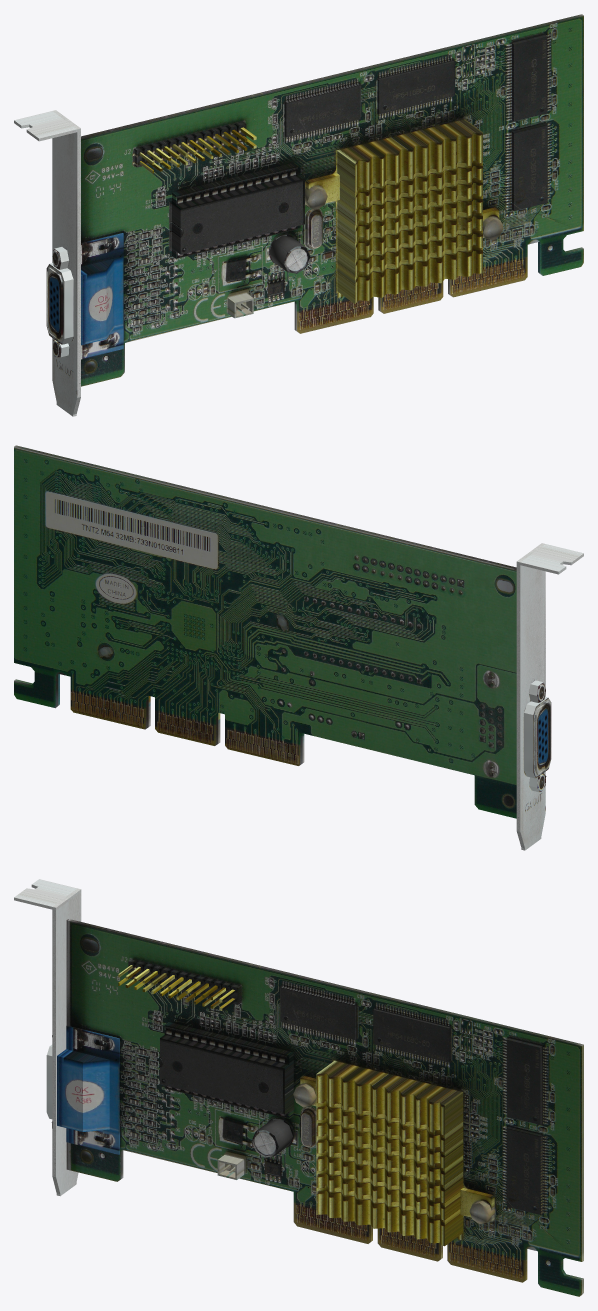
File: chip.glb
3 renders of one model, top to bottom at view 1: azimuth 30°, elevation 25°; view 2: azimuth 150°, elevation 25°; view 3: azimuth 330°, elevation 25°, orthographic.
Visible parts, largest first — view 1: gpu-1; view 2: gpu-1; view 3: gpu-1.
Boxes of the visible parts, box(x1,y1,x2,y2) form: gpu-1: box(14, 14, 583, 416); gpu-1: box(14, 445, 583, 850); gpu-1: box(14, 879, 583, 1296).
Size of the model in its own units: 1.33 by 0.6658 by 0.1348.
Materials: 4 (4 with a texture image).
